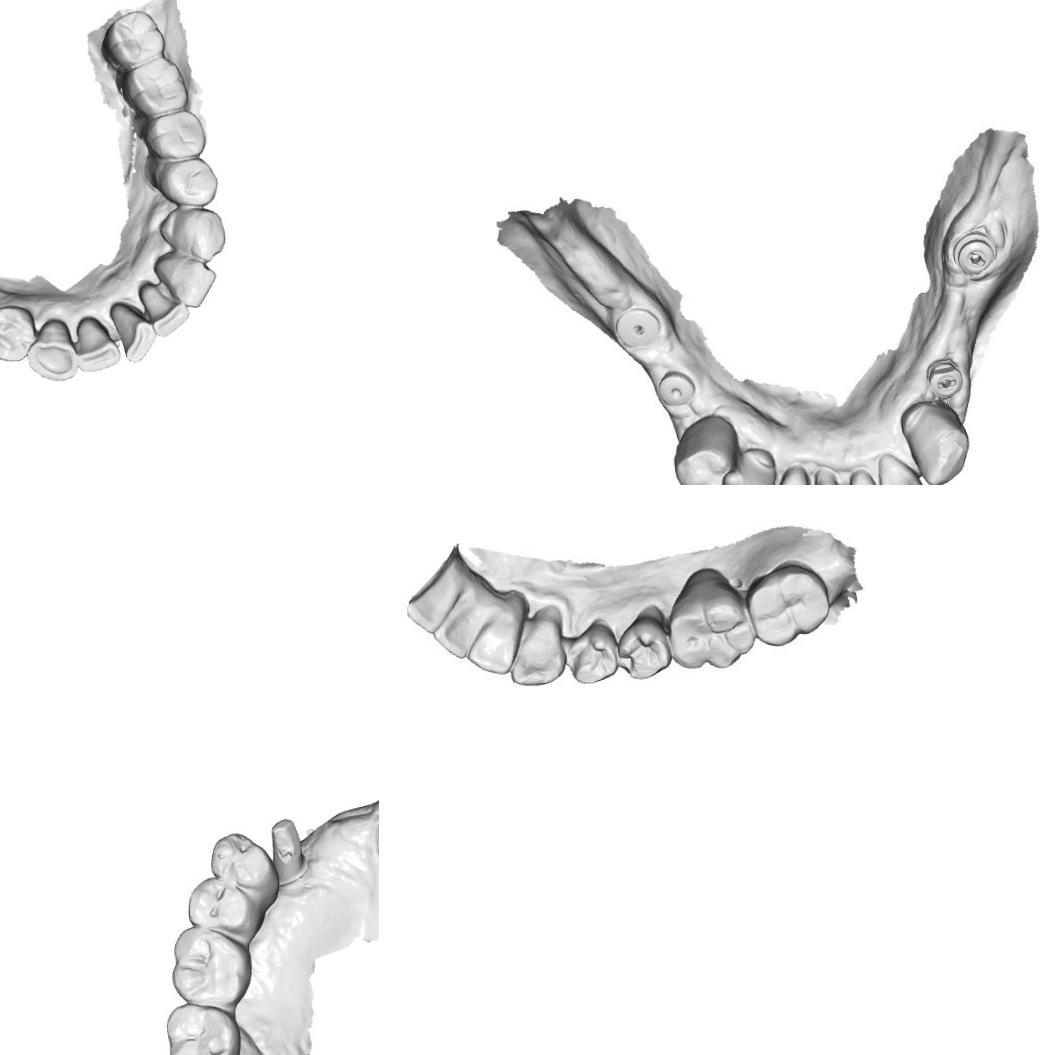abutment: (266, 814, 307, 882)
canine: (898, 399, 973, 485), (509, 615, 568, 689), (156, 204, 228, 264), (24, 316, 78, 384), (711, 445, 779, 485)
implant: (612, 305, 664, 353), (656, 368, 698, 410)
implant_minus: (950, 228, 1000, 280), (924, 356, 966, 401)
incisor: (464, 606, 524, 676), (430, 594, 490, 663), (151, 250, 219, 310), (402, 572, 462, 636), (135, 278, 191, 339), (68, 313, 123, 374), (106, 298, 158, 362), (876, 449, 929, 485), (763, 462, 817, 485), (844, 466, 891, 485)
molar: (666, 576, 755, 673), (742, 561, 833, 649), (168, 922, 257, 1010), (163, 997, 243, 1055), (101, 6, 168, 72), (126, 57, 191, 118)
premolar: (669, 413, 742, 485), (185, 875, 262, 940), (208, 829, 277, 900), (614, 614, 674, 682), (562, 620, 618, 686), (145, 108, 209, 162), (154, 158, 220, 210), (0, 304, 39, 364)
